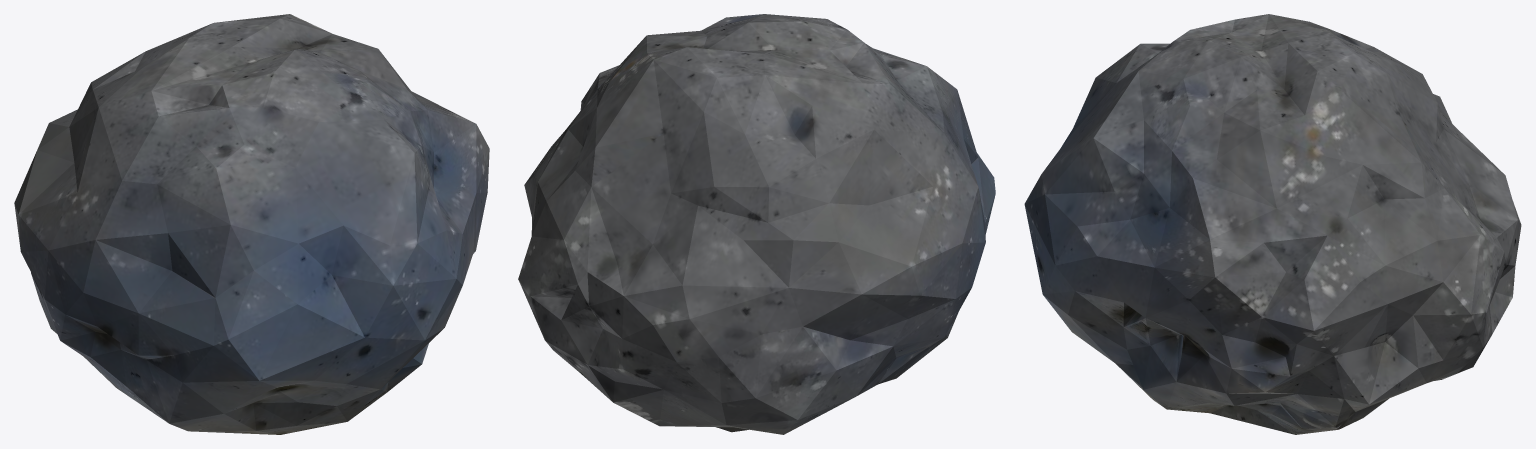
The model's file is tripo_convert_8317a604-4026-42a3-956d-ef3de3a23f53.obj.
3 views of the same model, side by side, from view 1: azimuth 30°, elevation 25°; view 2: azimuth 150°, elevation 25°; view 3: azimuth 270°, elevation 25° (orthographic).
Parts seen in each view (by area): view 1: tripo_node_8317a604-4026-42a3-956d-ef3de3a23f53; view 2: tripo_node_8317a604-4026-42a3-956d-ef3de3a23f53; view 3: tripo_node_8317a604-4026-42a3-956d-ef3de3a23f53.
Boxes of the visible parts, box(x1,y1,x2,y2) form: tripo_node_8317a604-4026-42a3-956d-ef3de3a23f53: box(14, 14, 489, 434); tripo_node_8317a604-4026-42a3-956d-ef3de3a23f53: box(518, 14, 995, 434); tripo_node_8317a604-4026-42a3-956d-ef3de3a23f53: box(1024, 14, 1521, 434).
Size of the model in its own units: 0.9767 by 0.8189 by 1.01.
